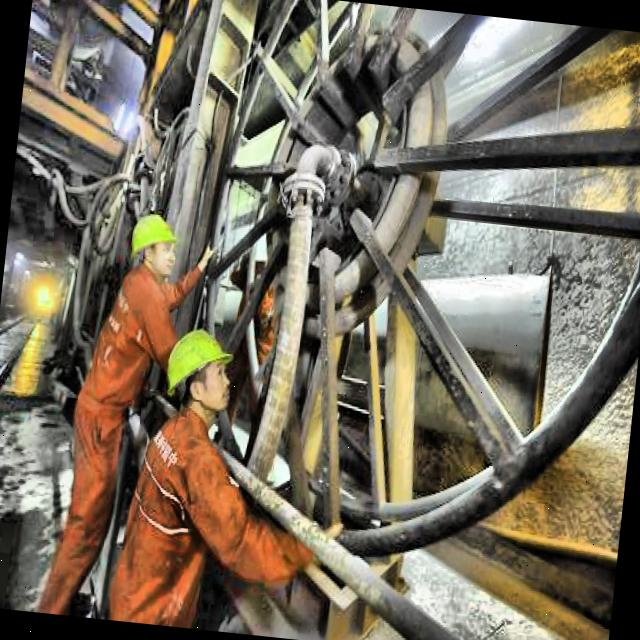helmet: (161, 319, 242, 422), (124, 208, 182, 282)
